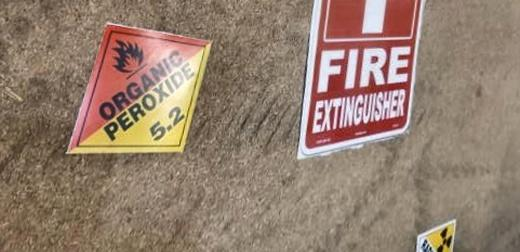organic-peroxide: (63, 25, 216, 156)
radioactive: (412, 214, 461, 252)
